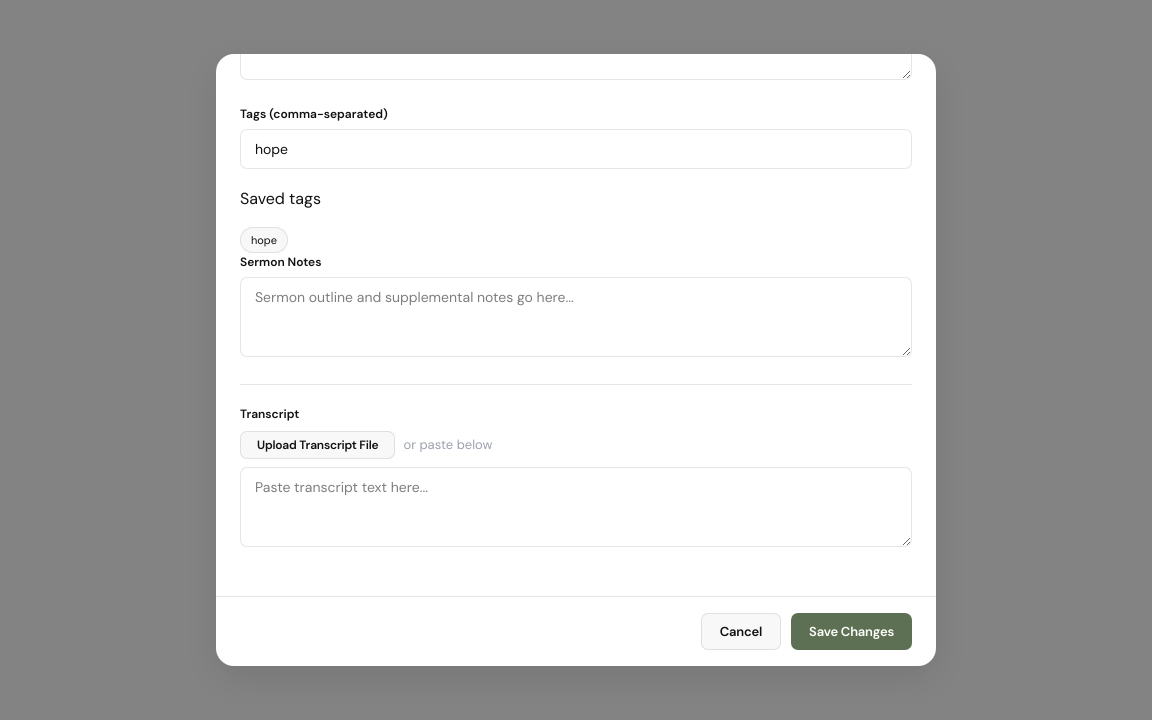
it: edit sends no request when token renewal fails and gives recovery feedback
The width and height of the screenshot is (1152, 720).
(page scrolled)
Click the button "Save Changes".
click(852, 632)  # box x1=791 y1=613 x2=912 y2=650
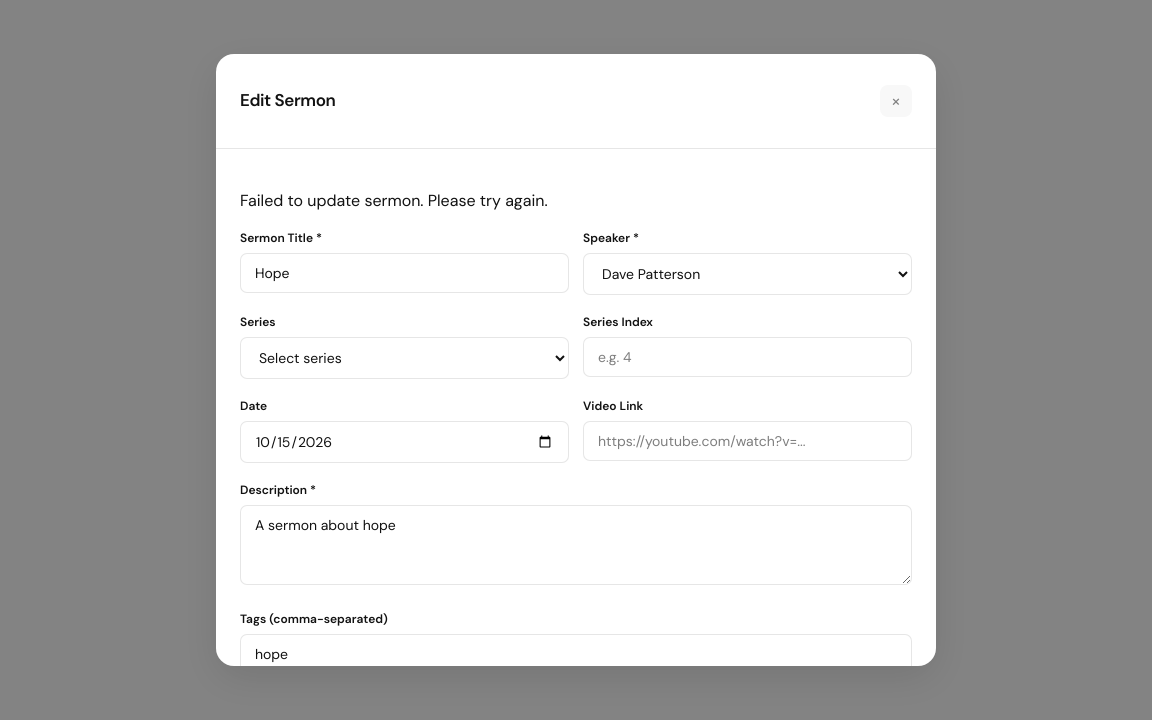
expect the message shows "Failed to update sermon": met, box x1=240 y1=190 x2=548 y2=211
